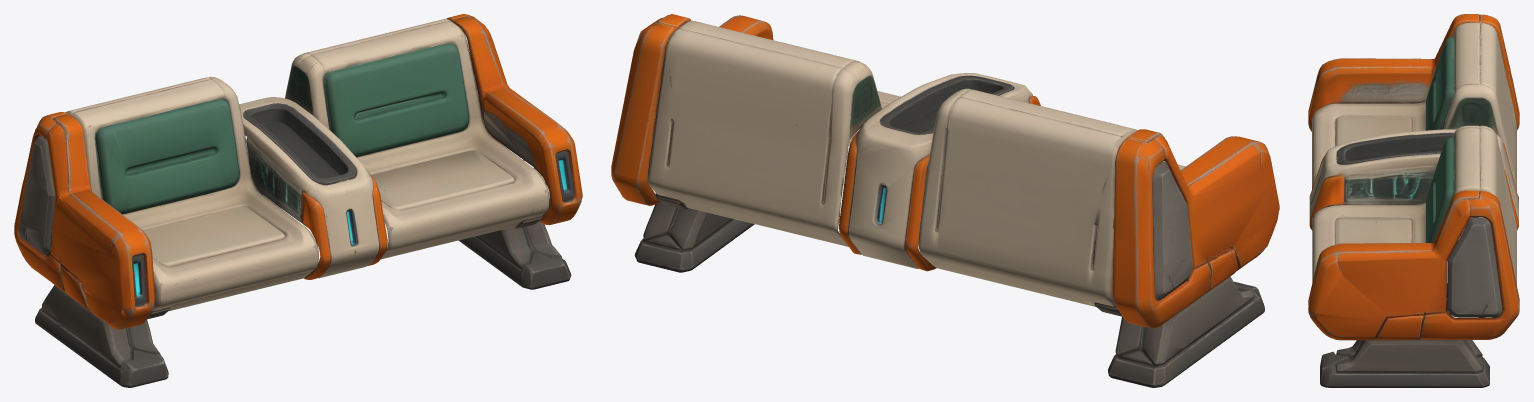
The model's file is futuristic bench 3d model.glb.
3 renders of one model, left to right at view 1: azimuth 30°, elevation 25°; view 2: azimuth 150°, elevation 25°; view 3: azimuth 270°, elevation 25°, orthographic. The views are drawn at different scales.
Parts seen in each view (by area): view 1: tripo_part_1, tripo_part_0, tripo_part_2, tripo_part_3, tripo_part_4, tripo_part_5, tripo_part_6, tripo_part_8; view 2: tripo_part_1, tripo_part_0, tripo_part_3, tripo_part_2, tripo_part_5, tripo_part_4, tripo_part_6, tripo_part_8; view 3: tripo_part_4, tripo_part_0, tripo_part_1, tripo_part_2, tripo_part_6, tripo_part_3, tripo_part_7.
Boxes of the visible parts, left/top/right/bottom form: tripo_part_1: left=285, top=18, right=549, bottom=259; tripo_part_0: left=65, top=76, right=318, bottom=319; tripo_part_2: left=239, top=97, right=387, bottom=279; tripo_part_3: left=14, top=112, right=154, bottom=329; tripo_part_4: left=446, top=14, right=582, bottom=225; tripo_part_5: left=35, top=285, right=168, bottom=387; tripo_part_6: left=458, top=221, right=571, bottom=289; tripo_part_8: left=18, top=136, right=54, bottom=255; tripo_part_1: left=648, top=20, right=900, bottom=246; tripo_part_0: left=918, top=88, right=1185, bottom=316; tripo_part_3: left=1112, top=129, right=1279, bottom=328; tripo_part_2: left=839, top=73, right=1040, bottom=271; tripo_part_5: left=1108, top=276, right=1264, bottom=387; tripo_part_4: left=611, top=14, right=773, bottom=205; tripo_part_6: left=634, top=201, right=754, bottom=272; tripo_part_8: left=1152, top=161, right=1192, bottom=300; tripo_part_4: left=1308, top=190, right=1519, bottom=340; tripo_part_0: left=1312, top=22, right=1516, bottom=190; tripo_part_1: left=1312, top=125, right=1516, bottom=317; tripo_part_2: left=1309, top=129, right=1518, bottom=230; tripo_part_6: left=1320, top=339, right=1489, bottom=387; tripo_part_3: left=1308, top=14, right=1519, bottom=131; tripo_part_7: left=1447, top=217, right=1502, bottom=317.
Bounding box in the file's own units: 1 × 0.4184 × 0.4349.
9 materials, 9 textured.
